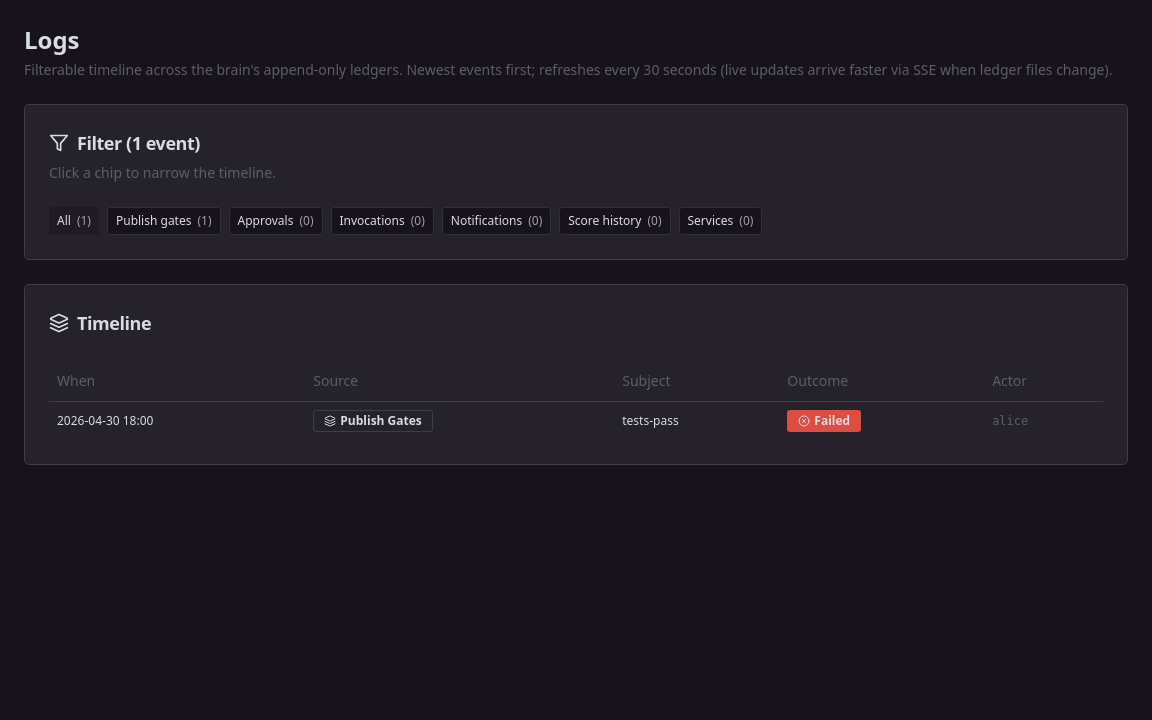
Scenario: LogsPage › clicking a row opens the drill-down modal with the entry's curated detail
Check: the table with test id "logs-timeline" is shown, box [49, 361, 1103, 440]
// Click the row.
Click the text "tests-pass" at (650, 420), box [614, 401, 779, 440]
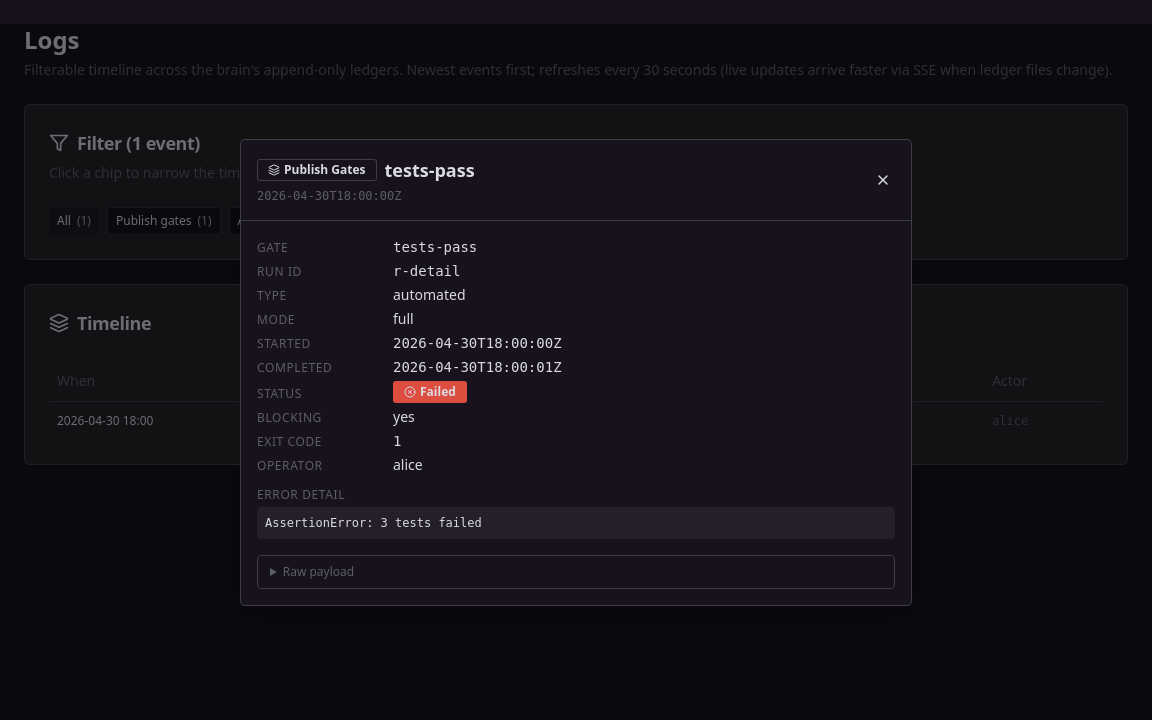
Check: the element with test id "log-detail-backdrop" is shown
Check: the element with test id "detail-field-gate" is shown, box [257, 238, 477, 256]
Check: the element with test id "detail-field-run-id" is shown, box [257, 262, 460, 280]
